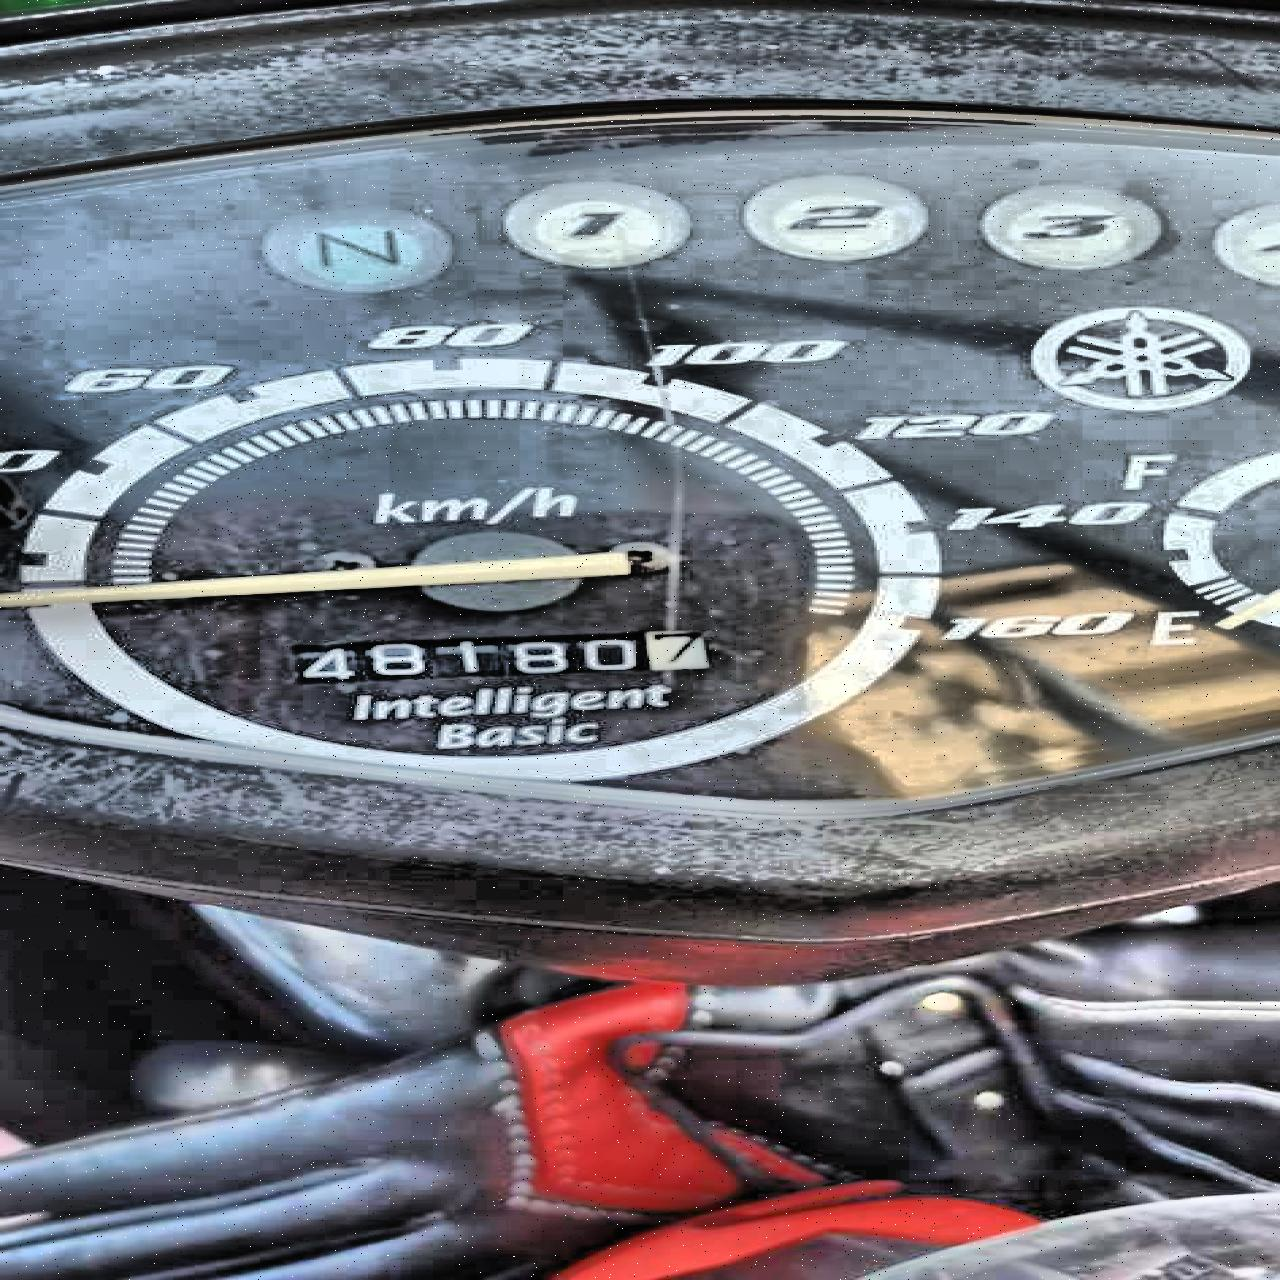0: (581, 638, 633, 670)
1: (455, 640, 476, 670)
4: (300, 646, 354, 679)
7: (652, 631, 697, 661)
8: (368, 641, 425, 675), (511, 640, 565, 673)
odometer: (279, 627, 714, 687)
